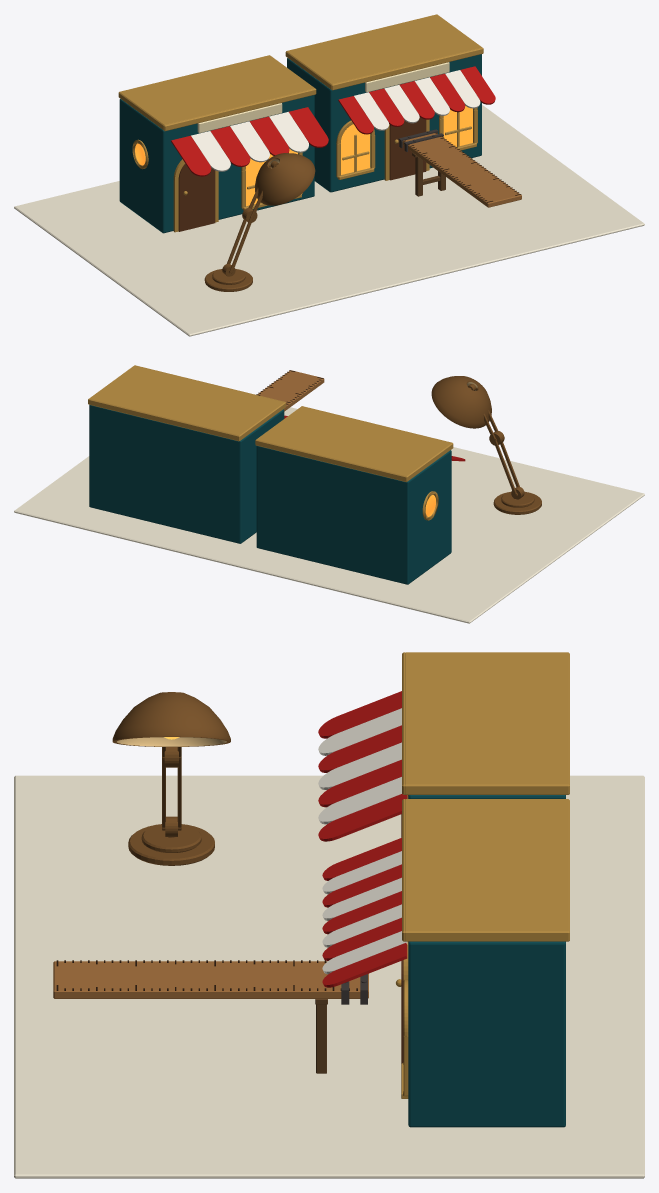
File: case3-assembly-reference-v02.glb
3 renders of one model, top to bottom at view 1: azimuth 30°, elevation 25°; view 2: azimuth 150°, elevation 25°; view 3: azimuth 270°, elevation 25°, orthographic. The views are drawn at different scales.
Visible parts, largest first — view 1: SM_ground_paper, SM_bldgB_trim, SM_bldgA_trim, SM_bldgB_box, SM_bldgB_awning, SM_bldgA_awning, SM_bldgA_box, SM_bridge_ruler, SM_bldgB_door, SM_lamp_shade, SM_bldgA_window_r, SM_bldgA_door (+7 smaller); view 2: SM_ground_paper, SM_bldgB_box, SM_bldgA_box, SM_bldgB_trim, SM_bldgA_trim, SM_lamp_shade, SM_bridge_ruler, SM_lamp_base, SM_lamp_arm, SM_bldgB_oculus; view 3: SM_ground_paper, SM_bldgA_box, SM_bldgB_trim, SM_bldgA_trim, SM_bridge_ruler, SM_bldgB_awning, SM_bldgA_awning, SM_lamp_shade, SM_lamp_base, SM_lamp_arm, SM_bridge_post, SM_bldgA_window_l.
Part boxes in pixels (<box>): SM_ground_paper: <box>14,105,644,336</box>; SM_bldgB_trim: <box>118,55,316,131</box>; SM_bldgA_trim: <box>285,14,483,90</box>; SM_bldgB_box: <box>119,95,314,233</box>; SM_bldgB_awning: <box>171,107,328,176</box>; SM_bldgA_awning: <box>338,66,495,134</box>; SM_bldgA_box: <box>287,54,481,192</box>; SM_bridge_ruler: <box>402,133,521,207</box>; SM_bldgB_door: <box>173,159,218,232</box>; SM_lamp_shade: <box>255,153,315,205</box>; SM_bldgA_window_r: <box>336,120,375,179</box>; SM_bldgA_door: <box>384,117,429,180</box>; SM_ground_paper: <box>14,407,644,623</box>; SM_bldgB_box: <box>256,446,451,584</box>; SM_bldgA_box: <box>89,405,284,543</box>; SM_bldgB_trim: <box>255,406,453,482</box>; SM_bldgA_trim: <box>88,365,285,441</box>; SM_lamp_shade: <box>431,376,491,428</box>; SM_bridge_ruler: <box>256,370,324,411</box>; SM_lamp_base: <box>493,486,541,514</box>; SM_lamp_arm: <box>468,384,519,496</box>; SM_bldgB_oculus: <box>422,491,438,520</box>; SM_ground_paper: <box>14,775,644,1178</box>; SM_bldgA_box: <box>408,941,565,1127</box>; SM_bldgB_trim: <box>402,652,569,794</box>; SM_bldgA_trim: <box>402,799,569,941</box>; SM_bridge_ruler: <box>53,960,368,998</box>; SM_bldgB_awning: <box>318,691,407,841</box>; SM_bldgA_awning: <box>322,837,407,987</box>; SM_lamp_shade: <box>112,692,230,746</box>; SM_lamp_base: <box>128,816,214,865</box>; SM_lamp_arm: <box>162,747,181,830</box>; SM_bridge_post: <box>315,999,327,1073</box>; SM_bldgA_window_l: <box>401,979,408,1098</box>.
Size of the model in its own units: 12 by 2.88 by 8.
